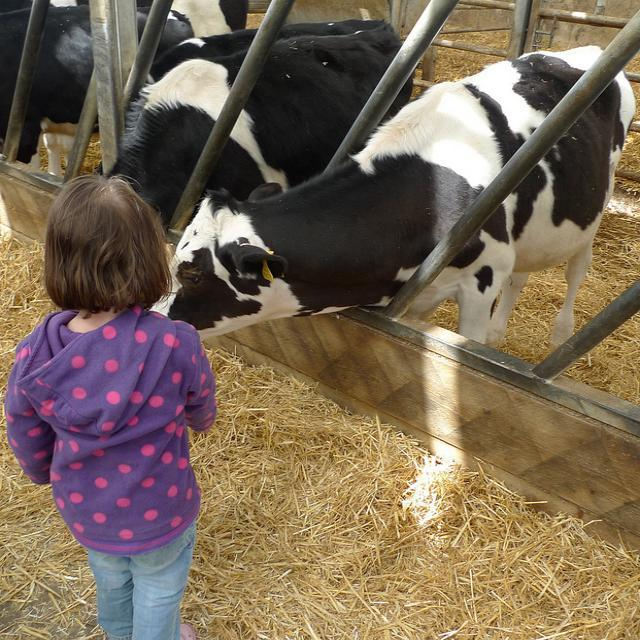cow: (163, 42, 636, 351), (100, 13, 412, 226), (0, 6, 97, 169), (147, 18, 379, 82)
